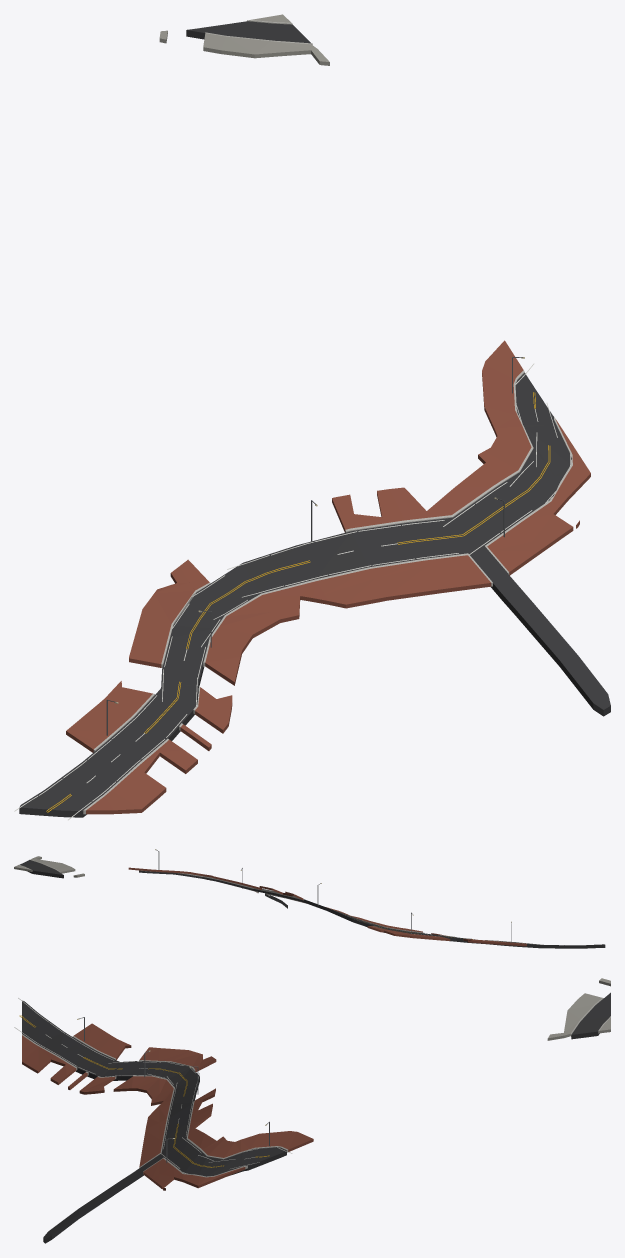
3 views of the same model, one above another, from view 1: azimuth 30°, elevation 25°; view 2: azimuth 150°, elevation 25°; view 3: azimuth 270°, elevation 25° (orthographic). The views are drawn at different scales.
Size of the model in its own units: 139 by 69.58 by 148.
